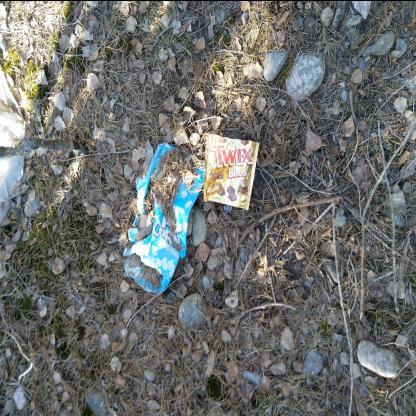plastik: (122, 140, 206, 292), (202, 132, 260, 210)
